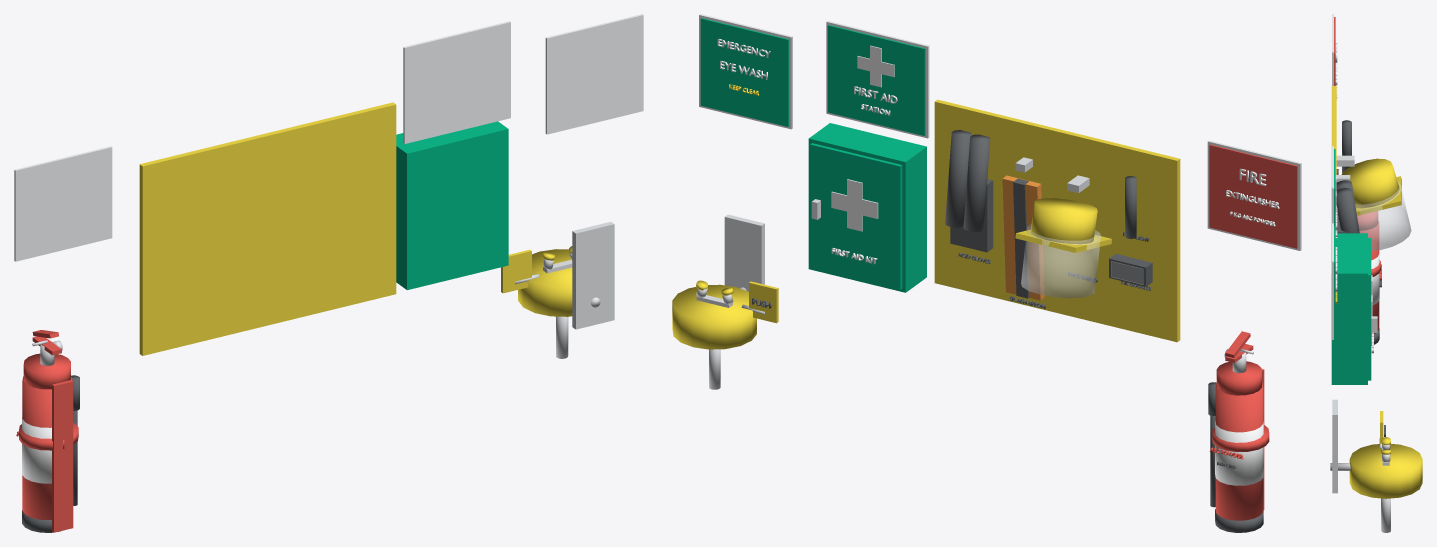
Rendered from SafetyGear.fbx.
3 views of the same model, side by side, from view 1: azimuth 30°, elevation 25°; view 2: azimuth 150°, elevation 25°; view 3: azimuth 270°, elevation 25° (orthographic). The views are drawn at different scales.
Parts seen in each view (by area): view 1: Station_Wall_Mounted_Safety_Gear; view 2: Station_Wall_Mounted_Safety_Gear; view 3: Station_Wall_Mounted_Safety_Gear.
Boxes of the visible parts, x1,y1,x2,y2 form: Station_Wall_Mounted_Safety_Gear: [14, 14, 643, 532]; Station_Wall_Mounted_Safety_Gear: [672, 14, 1301, 532]; Station_Wall_Mounted_Safety_Gear: [1330, 14, 1422, 532].
Bounding box in the file's own units: 260 × 160 × 40.5.
